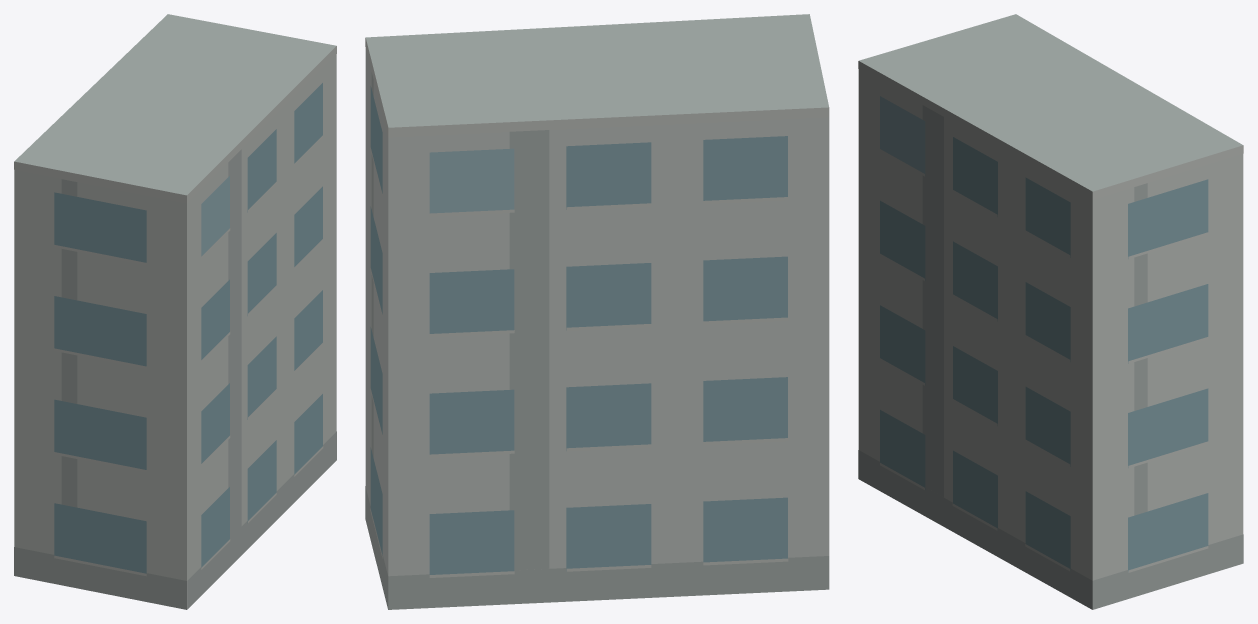
Rendered from residential-75131f5b-ade6-4284-a3e7-23665e98e5f2.glb.
3 renders of one model, left to right at view 1: azimuth 30°, elevation 25°; view 2: azimuth 150°, elevation 25°; view 3: azimuth 270°, elevation 25°, orthographic. The views are drawn at different scales.
Visible parts, largest first — view 1: residential-75131f5b-ade6-4284-a3e7-23665e98e5f2.tmp; view 2: residential-75131f5b-ade6-4284-a3e7-23665e98e5f2.tmp; view 3: residential-75131f5b-ade6-4284-a3e7-23665e98e5f2.tmp.
Part boxes in pixels (x1,y1,x2,y2): residential-75131f5b-ade6-4284-a3e7-23665e98e5f2.tmp: (14, 14, 336, 609); residential-75131f5b-ade6-4284-a3e7-23665e98e5f2.tmp: (365, 14, 829, 609); residential-75131f5b-ade6-4284-a3e7-23665e98e5f2.tmp: (858, 14, 1243, 609).
Bounding box in the file's own units: 11.12 × 12.2 × 10.18.
